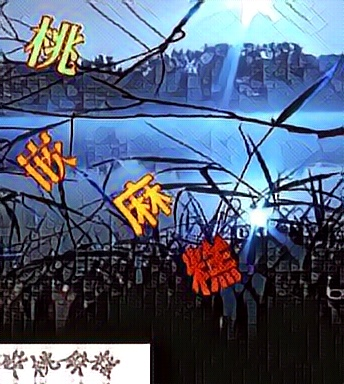B8E2: (180, 235, 245, 302)
C2E9: (110, 170, 175, 237)
C7B6: (15, 128, 80, 195)
CCD2: (20, 11, 85, 78)
